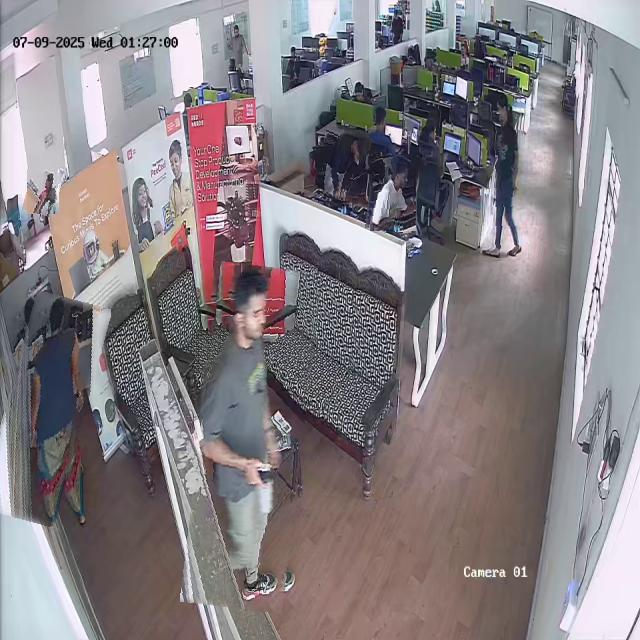person: (190, 264, 313, 611), (0, 293, 98, 525), (483, 94, 527, 261), (368, 153, 418, 232), (316, 128, 369, 202), (24, 168, 62, 215)
